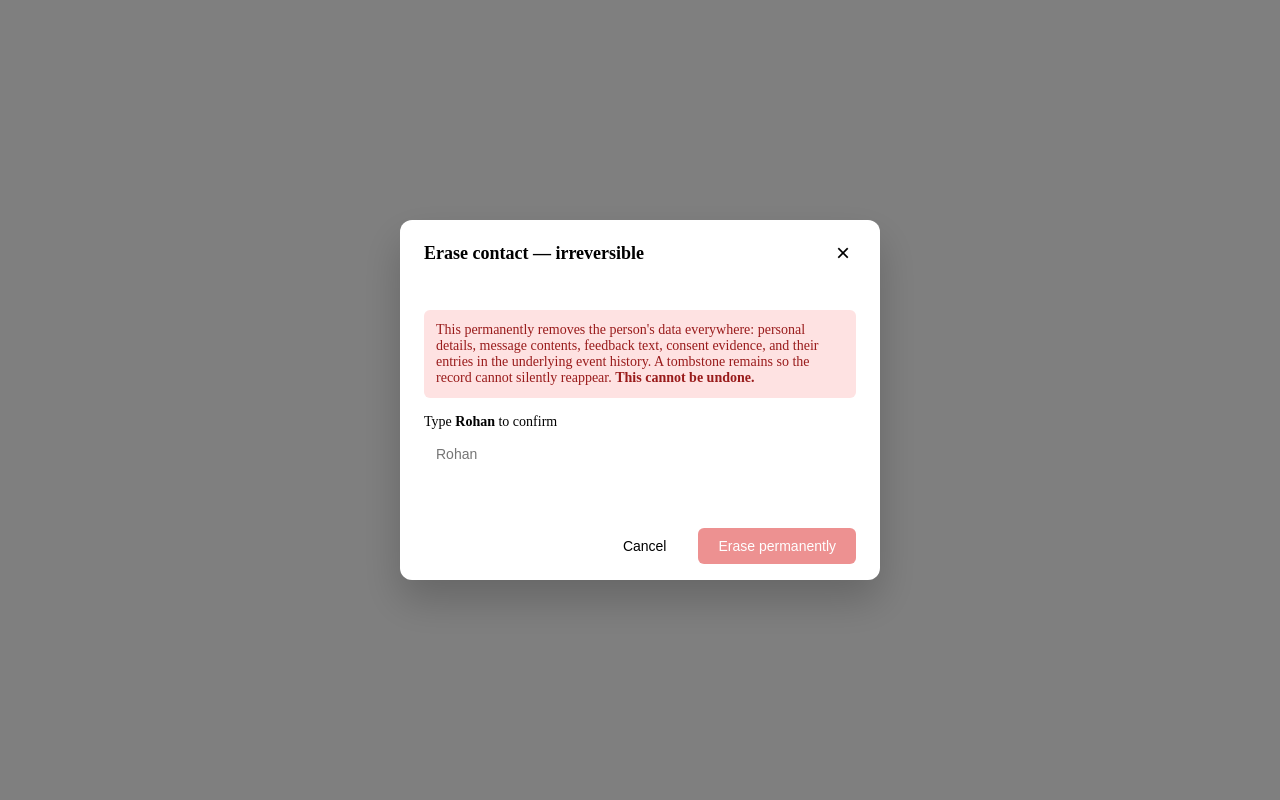
Test: EraseContactModal › disables Erase until the confirmation phrase matches exactly
Expected: the button "Erase permanently" is disabled, [698, 528, 856, 564]
In the field labelled "Type Rohan to confirm": (652, 454) [424, 436, 880, 472], type "rohan"
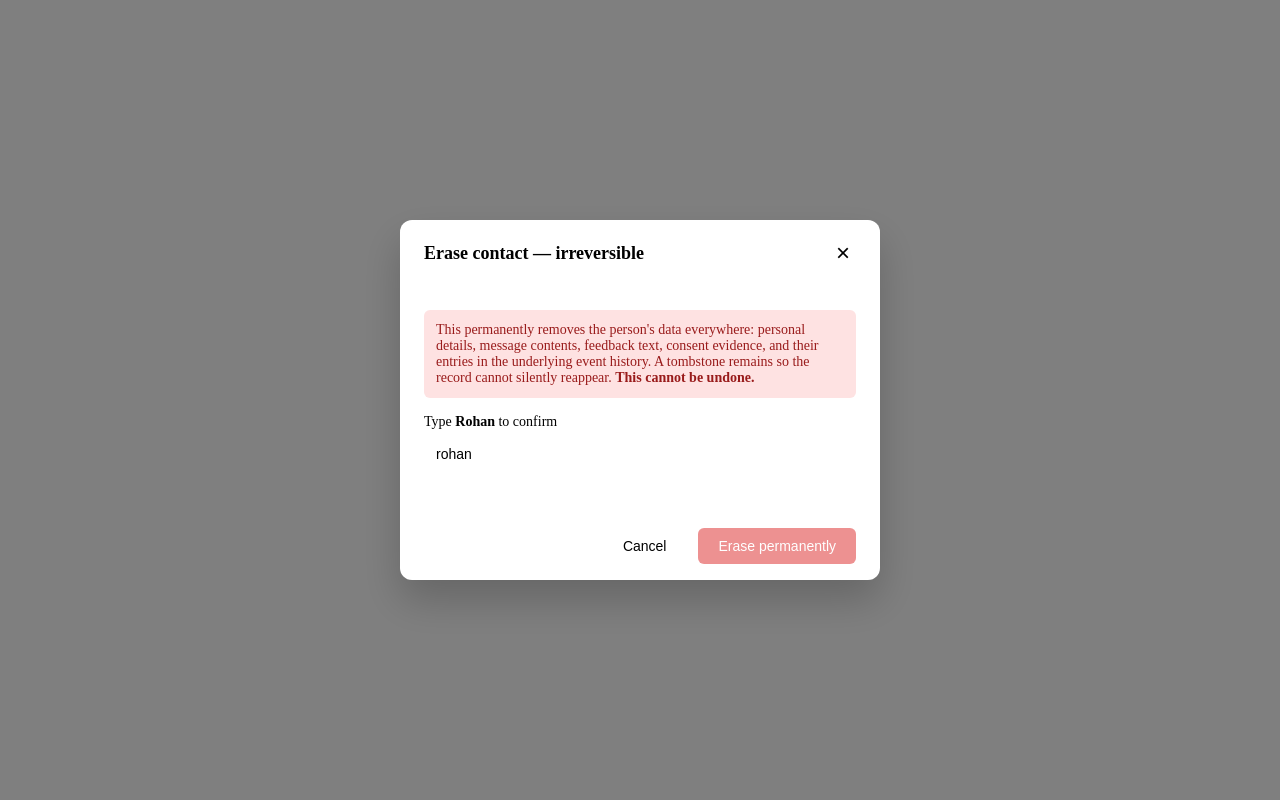
Expected: the button "Erase permanently" is disabled, [698, 528, 856, 564]
Replace the text in the field labelled "Type Rohan to confirm" with "Rohan": (652, 454) [424, 436, 880, 472]
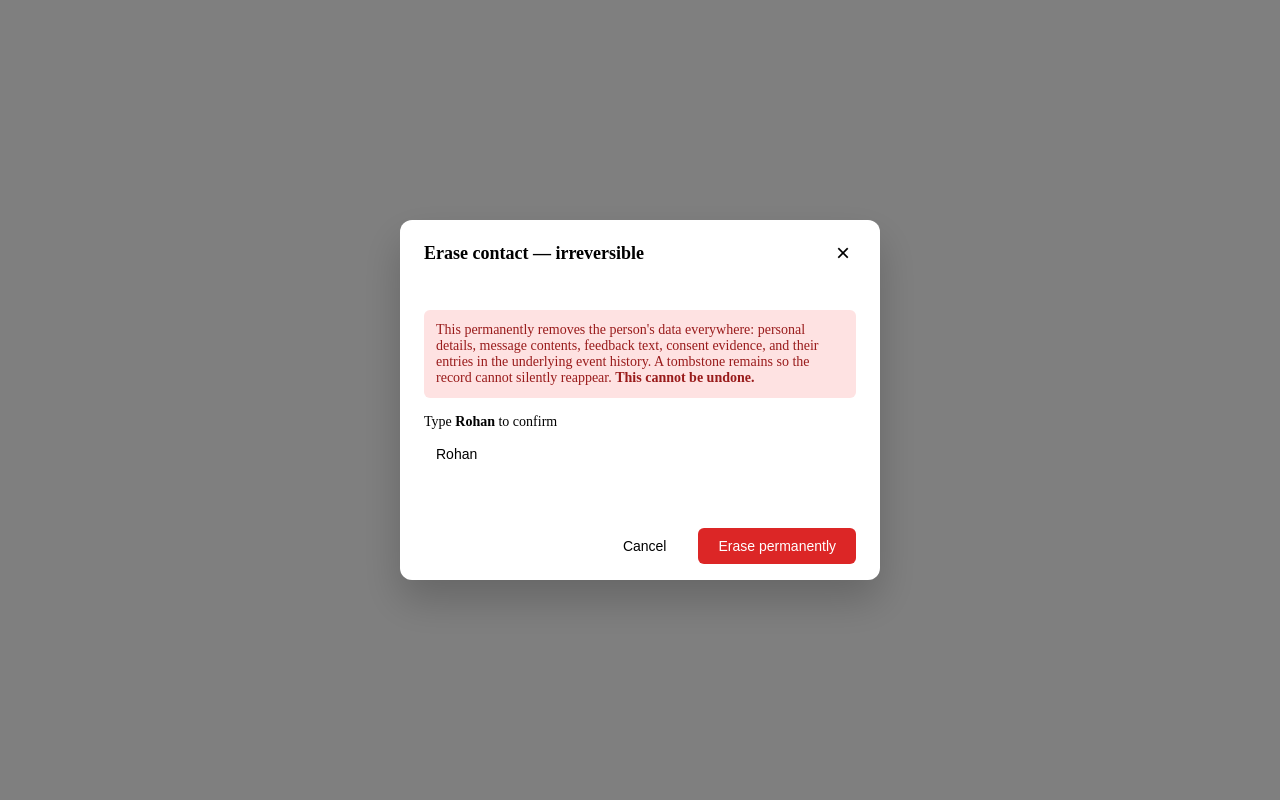
Now the button "Erase permanently" is enabled, box [698, 528, 856, 564]
